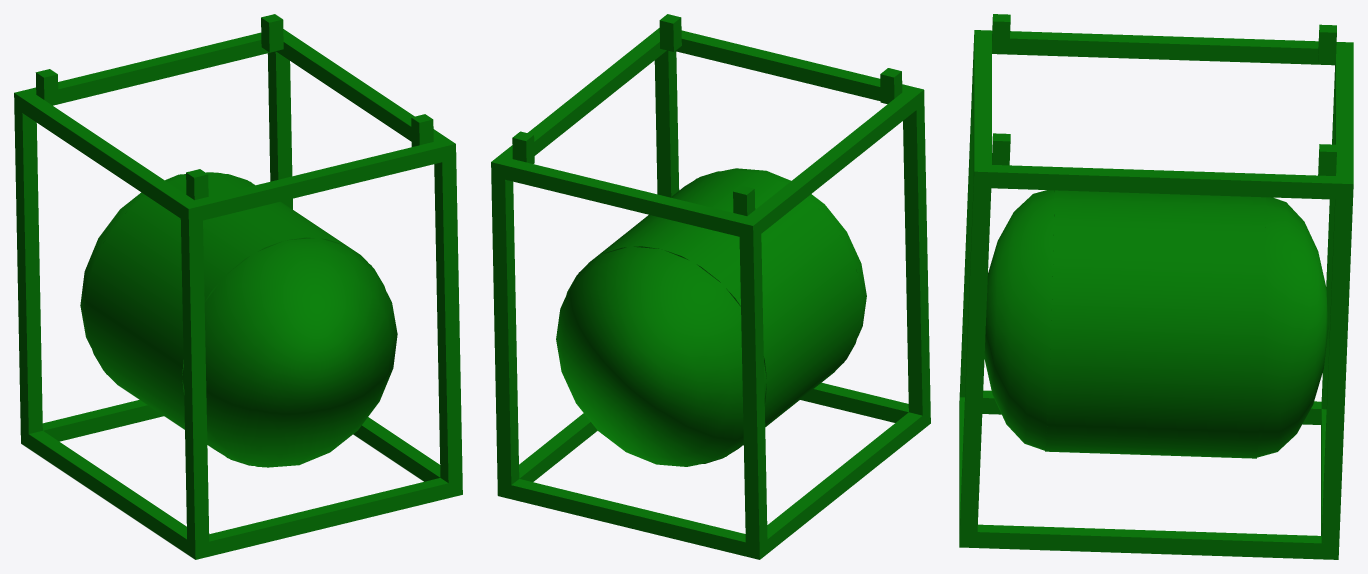
File: Image-1711348167551-2281184392768_HC-DIRTY-LUBE-OIL.fbx
3 renders of one model, left to right at view 1: azimuth 30°, elevation 25°; view 2: azimuth 150°, elevation 25°; view 3: azimuth 270°, elevation 25°, orthographic. The views are drawn at different scales.
Visible parts, largest first — view 1: DISH 2 of SUBEQUIPMENT /HC-DIRTY-LUBE-OIL/DRUM, CYLINDER 1 of SUBEQUIPMENT /HC-DIRTY-LUBE-OIL/DRUM, BOX 12 of SUBEQUIPMENT /HC-DIRTY-LUBE-OIL/FRAME, BOX 9 of SUBEQUIPMENT /HC-DIRTY-LUBE-OIL/FRAME, BOX 11 of SUBEQUIPMENT /HC-DIRTY-LUBE-OIL/FRAME, BOX 6 of SUBEQUIPMENT /HC-DIRTY-LUBE-OIL/FRAME, BOX 5 of SUBEQUIPMENT /HC-DIRTY-LUBE-OIL/FRAME, BOX 4 of SUBEQUIPMENT /HC-DIRTY-LUBE-OIL/FRAME, BOX 3 of SUBEQUIPMENT /HC-DIRTY-LUBE-OIL/FRAME, BOX 8 of SUBEQUIPMENT /HC-DIRTY-LUBE-OIL/FRAME, BOX 2 of SUBEQUIPMENT /HC-DIRTY-LUBE-OIL/FRAME, BOX 10 of SUBEQUIPMENT /HC-DIRTY-LUBE-OIL/FRAME (+7 smaller); view 2: DISH 1 of SUBEQUIPMENT /HC-DIRTY-LUBE-OIL/DRUM, CYLINDER 1 of SUBEQUIPMENT /HC-DIRTY-LUBE-OIL/DRUM, BOX 11 of SUBEQUIPMENT /HC-DIRTY-LUBE-OIL/FRAME, BOX 10 of SUBEQUIPMENT /HC-DIRTY-LUBE-OIL/FRAME, BOX 12 of SUBEQUIPMENT /HC-DIRTY-LUBE-OIL/FRAME, BOX 8 of SUBEQUIPMENT /HC-DIRTY-LUBE-OIL/FRAME, BOX 7 of SUBEQUIPMENT /HC-DIRTY-LUBE-OIL/FRAME, BOX 4 of SUBEQUIPMENT /HC-DIRTY-LUBE-OIL/FRAME, BOX 3 of SUBEQUIPMENT /HC-DIRTY-LUBE-OIL/FRAME, BOX 6 of SUBEQUIPMENT /HC-DIRTY-LUBE-OIL/FRAME, BOX 2 of SUBEQUIPMENT /HC-DIRTY-LUBE-OIL/FRAME, BOX 9 of SUBEQUIPMENT /HC-DIRTY-LUBE-OIL/FRAME (+7 smaller); view 3: CYLINDER 1 of SUBEQUIPMENT /HC-DIRTY-LUBE-OIL/DRUM, DISH 2 of SUBEQUIPMENT /HC-DIRTY-LUBE-OIL/DRUM, DISH 1 of SUBEQUIPMENT /HC-DIRTY-LUBE-OIL/DRUM, BOX 2 of SUBEQUIPMENT /HC-DIRTY-LUBE-OIL/FRAME, BOX 1 of SUBEQUIPMENT /HC-DIRTY-LUBE-OIL/FRAME, BOX 4 of SUBEQUIPMENT /HC-DIRTY-LUBE-OIL/FRAME, BOX 10 of SUBEQUIPMENT /HC-DIRTY-LUBE-OIL/FRAME, BOX 9 of SUBEQUIPMENT /HC-DIRTY-LUBE-OIL/FRAME, BOX 6 of SUBEQUIPMENT /HC-DIRTY-LUBE-OIL/FRAME, BOX 8 of SUBEQUIPMENT /HC-DIRTY-LUBE-OIL/FRAME, BOX 12 of SUBEQUIPMENT /HC-DIRTY-LUBE-OIL/FRAME, BOX 11 of SUBEQUIPMENT /HC-DIRTY-LUBE-OIL/FRAME (+6 smaller).
Part boxes in pixels (box(x1,y1,x2,y2)): DISH 2 of SUBEQUIPMENT /HC-DIRTY-LUBE-OIL/DRUM: box(182, 238, 397, 467); CYLINDER 1 of SUBEQUIPMENT /HC-DIRTY-LUBE-OIL/DRUM: box(84, 172, 385, 465); BOX 12 of SUBEQUIPMENT /HC-DIRTY-LUBE-OIL/FRAME: box(180, 219, 209, 544); BOX 9 of SUBEQUIPMENT /HC-DIRTY-LUBE-OIL/FRAME: box(434, 159, 462, 483); BOX 11 of SUBEQUIPMENT /HC-DIRTY-LUBE-OIL/FRAME: box(14, 108, 42, 433); BOX 6 of SUBEQUIPMENT /HC-DIRTY-LUBE-OIL/FRAME: box(195, 142, 442, 220); BOX 5 of SUBEQUIPMENT /HC-DIRTY-LUBE-OIL/FRAME: box(209, 478, 448, 556); BOX 4 of SUBEQUIPMENT /HC-DIRTY-LUBE-OIL/FRAME: box(14, 89, 202, 223); BOX 3 of SUBEQUIPMENT /HC-DIRTY-LUBE-OIL/FRAME: box(20, 429, 209, 559); BOX 8 of SUBEQUIPMENT /HC-DIRTY-LUBE-OIL/FRAME: box(28, 32, 269, 104); BOX 2 of SUBEQUIPMENT /HC-DIRTY-LUBE-OIL/FRAME: box(276, 29, 456, 161); BOX 10 of SUBEQUIPMENT /HC-DIRTY-LUBE-OIL/FRAME: box(267, 51, 292, 209); DISH 1 of SUBEQUIPMENT /HC-DIRTY-LUBE-OIL/DRUM: box(556, 246, 766, 466); CYLINDER 1 of SUBEQUIPMENT /HC-DIRTY-LUBE-OIL/DRUM: box(566, 170, 862, 464); BOX 11 of SUBEQUIPMENT /HC-DIRTY-LUBE-OIL/FRAME: box(739, 234, 767, 545); BOX 10 of SUBEQUIPMENT /HC-DIRTY-LUBE-OIL/FRAME: box(491, 176, 519, 484); BOX 12 of SUBEQUIPMENT /HC-DIRTY-LUBE-OIL/FRAME: box(903, 104, 930, 415); BOX 8 of SUBEQUIPMENT /HC-DIRTY-LUBE-OIL/FRAME: box(505, 159, 746, 236); BOX 7 of SUBEQUIPMENT /HC-DIRTY-LUBE-OIL/FRAME: box(511, 479, 745, 556); BOX 4 of SUBEQUIPMENT /HC-DIRTY-LUBE-OIL/FRAME: box(739, 86, 924, 239); BOX 3 of SUBEQUIPMENT /HC-DIRTY-LUBE-OIL/FRAME: box(745, 409, 930, 559); BOX 6 of SUBEQUIPMENT /HC-DIRTY-LUBE-OIL/FRAME: box(675, 30, 909, 101); BOX 2 of SUBEQUIPMENT /HC-DIRTY-LUBE-OIL/FRAME: box(491, 28, 666, 179); BOX 9 of SUBEQUIPMENT /HC-DIRTY-LUBE-OIL/FRAME: box(654, 50, 679, 197); CYLINDER 1 of SUBEQUIPMENT /HC-DIRTY-LUBE-OIL/DRUM: box(1045, 190, 1265, 458); DISH 2 of SUBEQUIPMENT /HC-DIRTY-LUBE-OIL/DRUM: box(984, 190, 1054, 450); DISH 1 of SUBEQUIPMENT /HC-DIRTY-LUBE-OIL/DRUM: box(1257, 197, 1328, 457); BOX 2 of SUBEQUIPMENT /HC-DIRTY-LUBE-OIL/FRAME: box(973, 164, 1353, 200); BOX 1 of SUBEQUIPMENT /HC-DIRTY-LUBE-OIL/FRAME: box(959, 524, 1339, 559); BOX 4 of SUBEQUIPMENT /HC-DIRTY-LUBE-OIL/FRAME: box(973, 30, 1353, 65); BOX 10 of SUBEQUIPMENT /HC-DIRTY-LUBE-OIL/FRAME: box(1321, 199, 1352, 543); BOX 9 of SUBEQUIPMENT /HC-DIRTY-LUBE-OIL/FRAME: box(960, 186, 991, 531); BOX 6 of SUBEQUIPMENT /HC-DIRTY-LUBE-OIL/FRAME: box(973, 37, 991, 176); BOX 8 of SUBEQUIPMENT /HC-DIRTY-LUBE-OIL/FRAME: box(1335, 49, 1353, 176); BOX 12 of SUBEQUIPMENT /HC-DIRTY-LUBE-OIL/FRAME: box(960, 51, 973, 397); BOX 11 of SUBEQUIPMENT /HC-DIRTY-LUBE-OIL/FRAME: box(1321, 65, 1335, 409).
Size of the model in its own units: 1.9 by 2.23 by 2.57.
